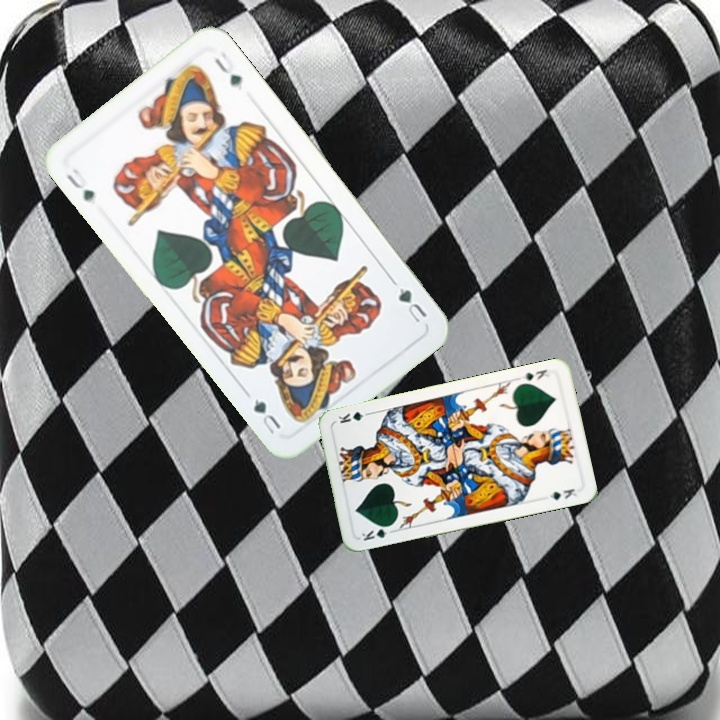GK: (357, 521, 397, 544), (515, 365, 551, 383)
GU: (394, 283, 430, 326), (62, 163, 97, 204)
